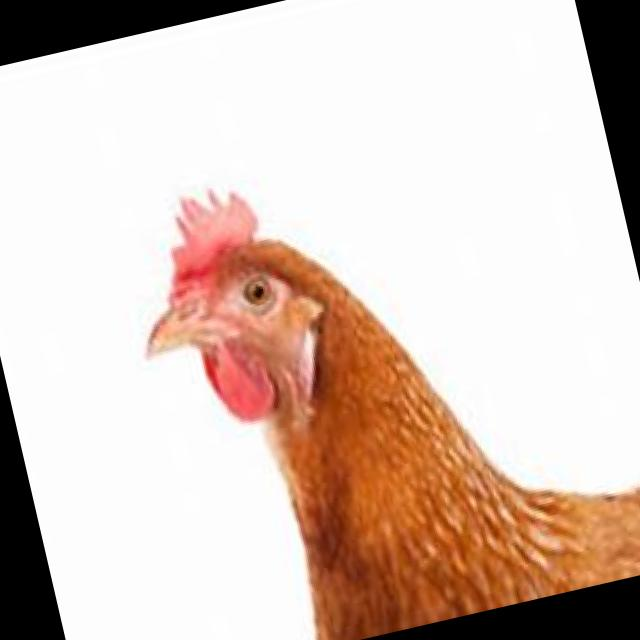animal: (110, 93, 640, 640)
